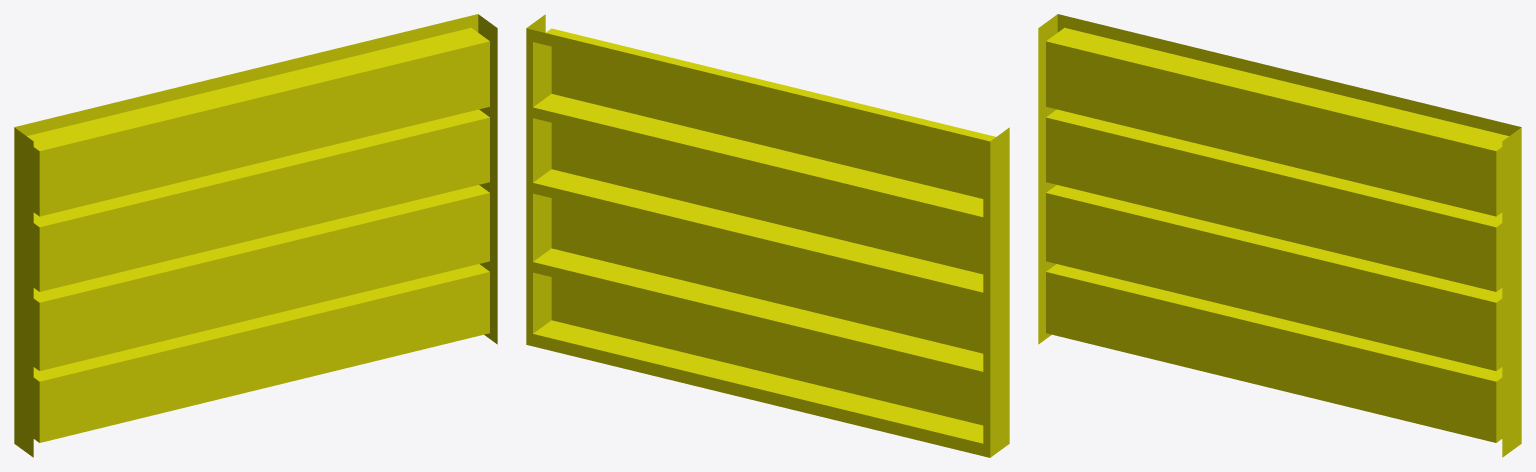
Rendered from LIBRERO.fbx.
The picture shows the model from 3 angles, left to right: view 1: azimuth 30°, elevation 25°; view 2: azimuth 150°, elevation 25°; view 3: azimuth 330°, elevation 25°; orthographic projection.
Visible parts, largest first — view 1: LIBRERO; view 2: LIBRERO; view 3: LIBRERO.
Part boxes in pixels (bbox=[...]): LIBRERO: bbox=[14, 14, 497, 457]; LIBRERO: bbox=[526, 14, 1009, 457]; LIBRERO: bbox=[1038, 14, 1521, 457].
Size of the model in its own units: 5 by 3.26 by 0.3647.
